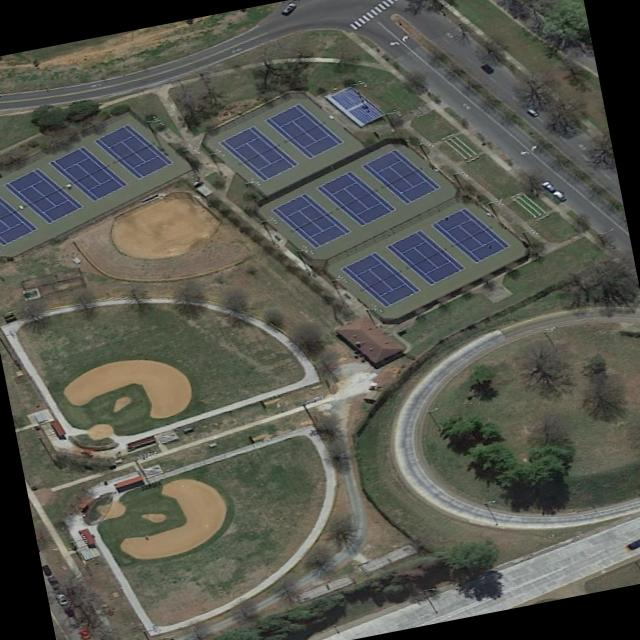small-vehicle: (47, 574, 64, 590), (280, 1, 299, 14), (56, 591, 71, 606), (552, 189, 569, 202), (540, 180, 558, 192), (62, 605, 79, 617), (479, 62, 496, 74), (526, 106, 541, 118), (78, 628, 92, 640), (628, 539, 640, 549)
